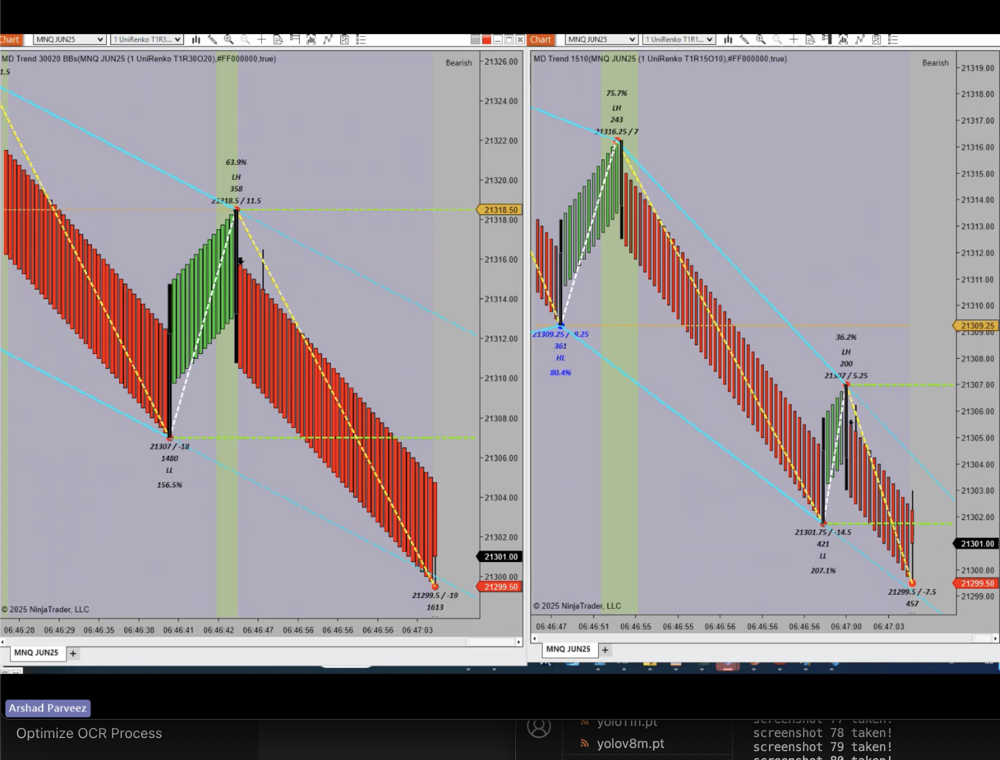HL: (547, 349, 575, 367)
LH: (836, 343, 860, 362), (228, 166, 251, 185), (607, 97, 629, 112)
LL: (811, 546, 836, 566), (159, 464, 180, 479)
